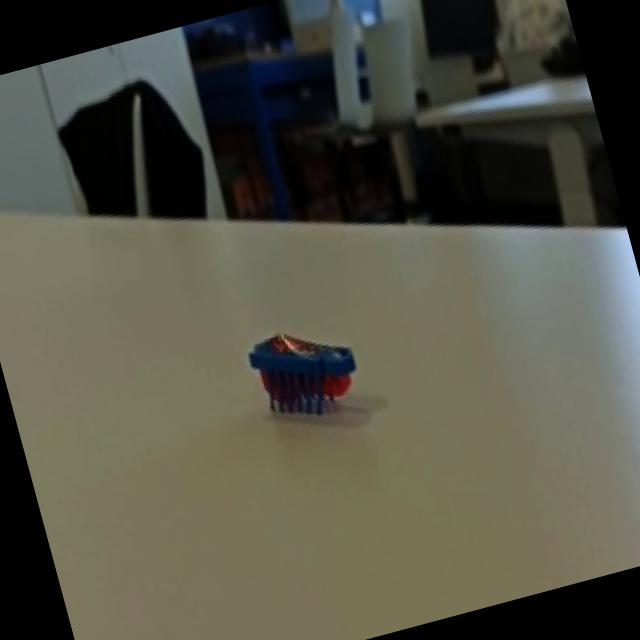1_NanoBug_Azul: (189, 256, 415, 480)
